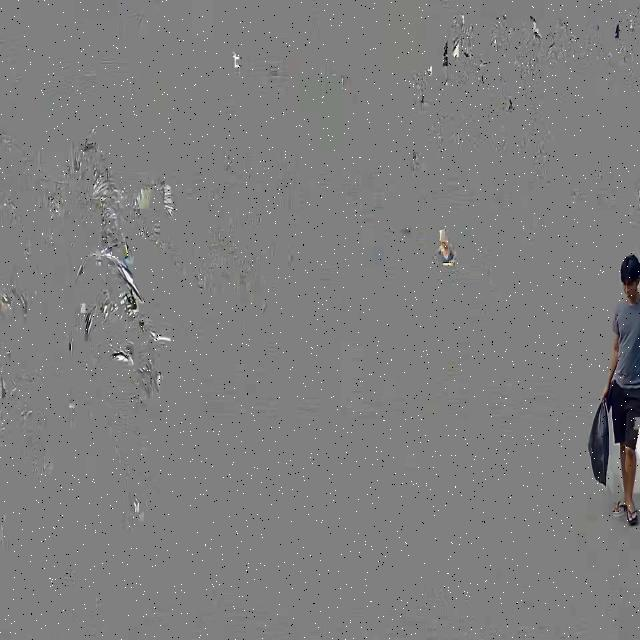human: (609, 246, 640, 527)
trash: (584, 398, 619, 498)
